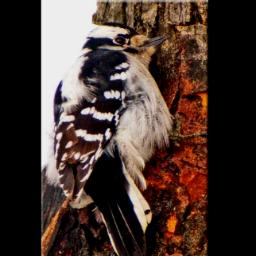Woodpecker: (45, 18, 206, 256)
